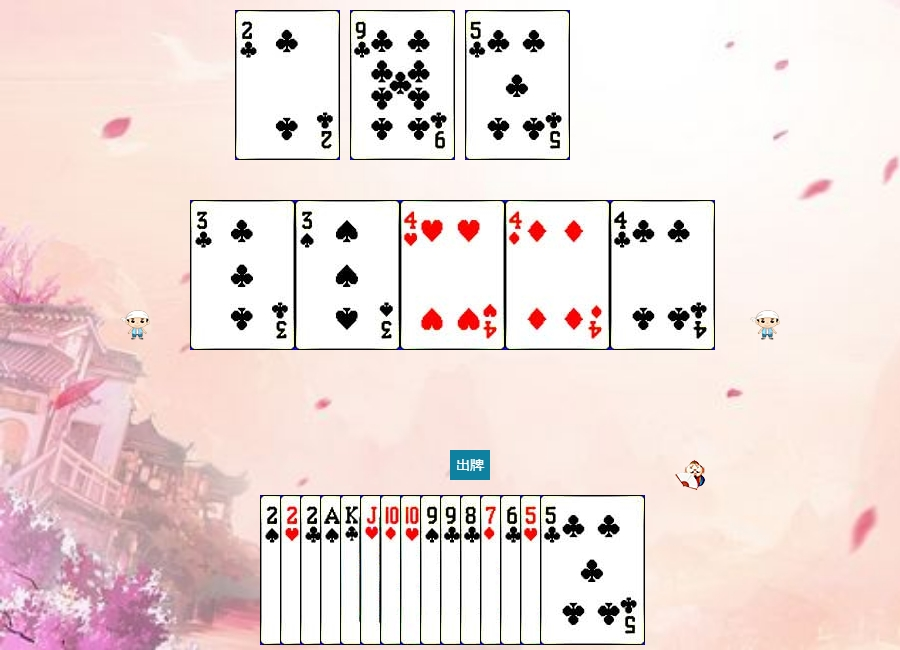10~1: (380, 495, 485, 645)
10~3: (400, 495, 505, 645)
11~3: (360, 495, 465, 645)
13~2: (340, 495, 445, 645)
14~4: (320, 495, 425, 645)
15~2: (235, 10, 340, 160), (300, 495, 405, 645)
15~3: (280, 495, 385, 645)
15~4: (260, 495, 365, 645)
3~2: (190, 200, 295, 350)
3~4: (295, 200, 400, 350)
4~1: (505, 200, 610, 350)
4~2: (610, 200, 715, 350)
4~3: (400, 200, 505, 350)
5~2: (465, 10, 570, 160), (540, 495, 645, 645)
5~3: (520, 495, 625, 645)
6~2: (500, 495, 605, 645)
7~1: (480, 495, 585, 645)
8~2: (460, 495, 565, 645)
9~2: (350, 10, 455, 160), (440, 495, 545, 645)
9~4: (420, 495, 525, 645)
